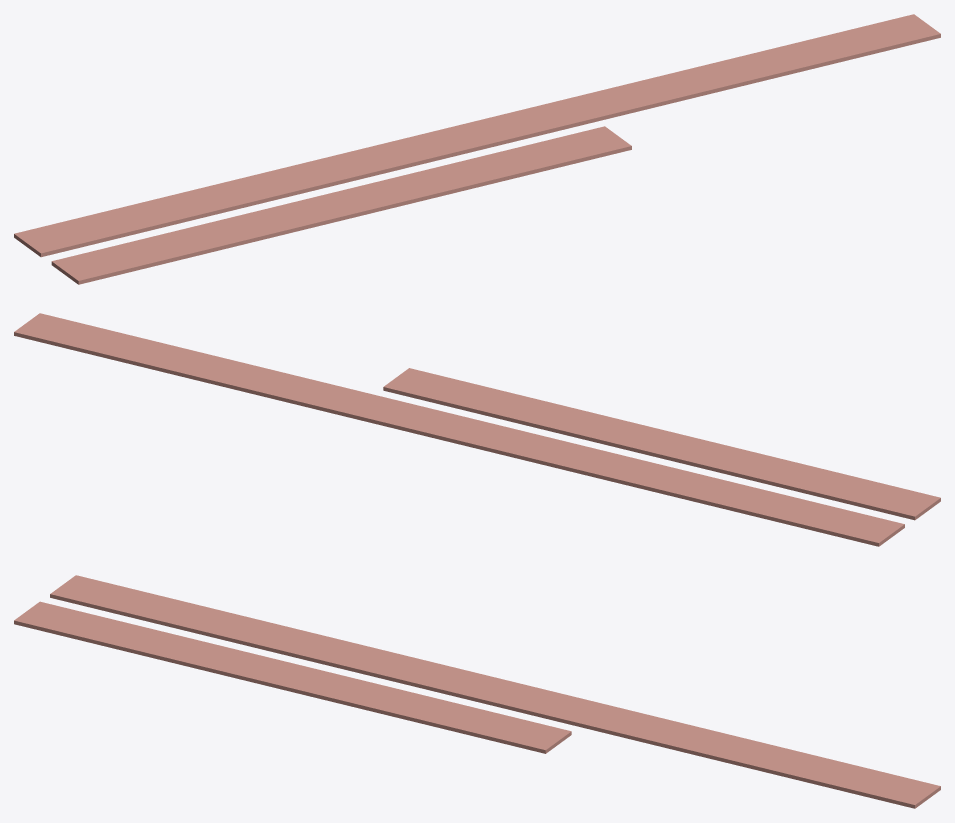
Rendered from ceiling-plank-253x20_carvalho_v0.1.glb.
3 renders of one model, top to bottom at view 1: azimuth 30°, elevation 25°; view 2: azimuth 150°, elevation 25°; view 3: azimuth 330°, elevation 25°, orthographic. The views are drawn at different scales.
Visible parts, largest first — view 1: IB-40510_ceiling-plank-253x20_carvalho_4880mm, IB-40501_ceiling-plank-253x20_carvalho_3000mm; view 2: IB-40510_ceiling-plank-253x20_carvalho_4880mm, IB-40501_ceiling-plank-253x20_carvalho_3000mm; view 3: IB-40510_ceiling-plank-253x20_carvalho_4880mm, IB-40501_ceiling-plank-253x20_carvalho_3000mm.
Part boxes in pixels (left/top/right/bottom): IB-40510_ceiling-plank-253x20_carvalho_4880mm: left=14, top=14, right=940, bottom=257; IB-40501_ceiling-plank-253x20_carvalho_3000mm: left=51, top=126, right=631, bottom=284; IB-40510_ceiling-plank-253x20_carvalho_4880mm: left=14, top=313, right=904, bottom=546; IB-40501_ceiling-plank-253x20_carvalho_3000mm: left=383, top=368, right=940, bottom=520; IB-40510_ceiling-plank-253x20_carvalho_4880mm: left=50, top=575, right=940, bottom=808; IB-40501_ceiling-plank-253x20_carvalho_3000mm: left=14, top=601, right=571, bottom=753.
Size of the model in its own units: 4.88 by 0.02 by 0.606.
